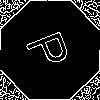P: (25, 25, 80, 73)
